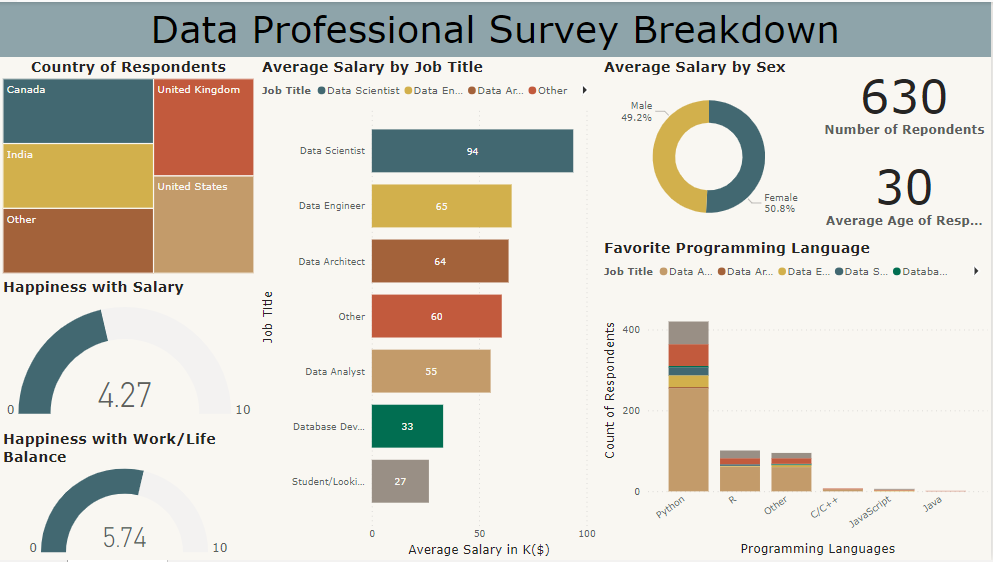

The page's visual inventory and layout, read from the dashboard file:
{"tool":"powerbi","page":{"name":"Dashboard","canvas":[1280,720],"ordinal":0},"visuals":[{"type":"textbox","box":[0,0,1280.5,71.4],"z":0},{"type":"card","fields":{"Values":["CountNonNull(Data Professional Survey.Unique ID)"]},"box":[1056.5,71.2,223.1,112.2],"z":1000},{"type":"card","fields":{"Values":["Avg(Data Professional Survey.Q10 - Current Age)"]},"box":[1056.5,183.3,223.1,121.8],"z":2000},{"type":"barChart","title":"Average Salary by Job Title","fields":{"Category":["Data Professional Survey.Q1 - Which Title Best Fits your Current Role?.1"],"Y":["Avg(Data Professional Survey.Average Salary)"],"Series":["Data Professional Survey.Q1 - Which Title Best Fits your Current Role?.1"]},"box":[334.1,71.2,441.4,648.8],"z":3000},{"type":"columnChart","title":"Favorite Programming Language","fields":{"Category":["Data Professional Survey.Q5 - Favorite Programming Language.1"],"Y":["CountNonNull(Data Professional Survey.Unique ID)"],"Series":["Data Professional Survey.Q1 - Which Title Best Fits your Current Role?.1"]},"box":[775.5,305.1,505.3,414.9],"z":4000},{"type":"treemap","title":"Country of Respondents","fields":{"Group":["Data Professional Survey.Q11 - Which Country do you live in?.1"],"Values":["Count(Data Professional Survey.Q11 - Which Country do you live in?.1)"]},"box":[0,71.3,334.3,283.8],"z":5000},{"type":"gauge","title":"Happiness with Work/Life Balance","fields":{"Y":["Avg(Data Professional Survey.Q6 - How Happy are you in your Current Position with the following? (Work/Life Balance))"],"MinValue":["Min(Data Professional Survey.Q6 - How Happy are you in your Current Position with the following? (Work/Life Balance))"],"MaxValue":["Max(Data Professional Survey.Q6 - How Happy are you in your Current Position with the following? (Work/Life Balance))1"]},"box":[0,551.2,334.1,168.8],"z":6000},{"type":"gauge","title":"Happiness with Salary","fields":{"Y":["Avg(Data Professional Survey.Q6 - How Happy are you in your Current Position with the following? (Salary))"],"MinValue":["Min(Data Professional Survey.Q6 - How Happy are you in your Current Position with the following? (Salary))"],"MaxValue":["Max(Data Professional Survey.Q6 - How Happy are you in your Current Position with the following? (Salary))"]},"box":[0,354.6,335.3,196.6],"z":7000},{"type":"donutChart","title":"Average Salary by Sex","fields":{"Category":["Data Professional Survey.Q9 - Male/Female?"],"Y":["Avg(Data Professional Survey.Average Salary)"]},"box":[775.5,71.2,281,234],"z":8000}]}

Visuals, with their boxes in screenshot pixels (x1, y1, x2, y2), scaled from the page's 1280x720 canvas onto the 993x562 screenshot:
textbox: <region>0, 0, 992, 56</region>
card - CountNonNull(Data Professional Survey.Unique ID): <region>820, 56, 992, 143</region>
card - Avg(Data Professional Survey.Q10 - Current Age): <region>820, 143, 992, 238</region>
"Average Salary by Job Title" barChart: <region>259, 56, 602, 561</region>
"Favorite Programming Language" columnChart: <region>602, 238, 992, 561</region>
"Country of Respondents" treemap: <region>0, 56, 259, 277</region>
"Happiness with Work/Life Balance" gauge: <region>0, 430, 259, 561</region>
"Happiness with Salary" gauge: <region>0, 277, 260, 430</region>
"Average Salary by Sex" donutChart: <region>602, 56, 820, 238</region>
